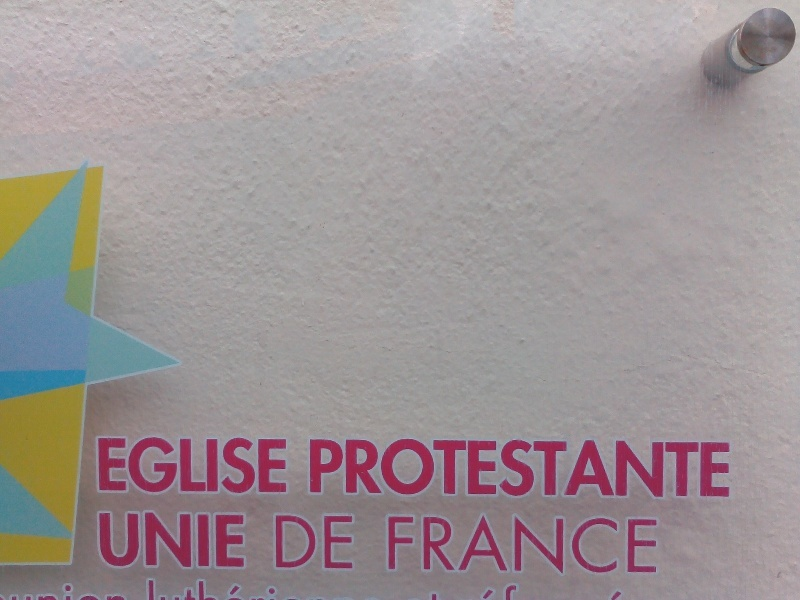text: (321, 436, 336, 499), (337, 436, 352, 499), (353, 436, 368, 499), (369, 436, 384, 499), (385, 436, 400, 499), (401, 436, 416, 499), (417, 436, 432, 499), (433, 436, 448, 499), (449, 436, 464, 499), (465, 436, 480, 499), (481, 436, 496, 499), (497, 436, 512, 499), (513, 436, 528, 499), (529, 436, 544, 499), (545, 436, 560, 499), (561, 436, 576, 499), (577, 436, 592, 499), (593, 436, 608, 499), (609, 436, 624, 499), (625, 436, 640, 499), (641, 436, 656, 499), (657, 436, 672, 499), (673, 436, 688, 499), (689, 436, 704, 499), (705, 436, 720, 499), (385, 513, 400, 574), (401, 513, 416, 574), (417, 513, 432, 574), (433, 513, 448, 574), (449, 513, 464, 574), (465, 513, 480, 574), (481, 513, 496, 574), (497, 513, 512, 574), (513, 513, 528, 574), (529, 513, 544, 574), (545, 513, 560, 574), (561, 513, 576, 574), (577, 513, 592, 574), (593, 513, 608, 574), (609, 513, 624, 574), (625, 513, 640, 574), (641, 513, 656, 574), (97, 509, 112, 569), (113, 509, 128, 569), (129, 509, 144, 569), (145, 509, 160, 569), (161, 509, 176, 569), (177, 509, 192, 569), (193, 509, 208, 569), (209, 509, 224, 569), (225, 509, 240, 569), (97, 436, 112, 495), (113, 436, 128, 495), (129, 436, 144, 495), (145, 436, 160, 495), (161, 436, 176, 495), (177, 436, 192, 495), (193, 436, 208, 495), (209, 436, 224, 495), (225, 436, 240, 495), (241, 436, 256, 495), (257, 436, 272, 495), (273, 436, 288, 495), (273, 512, 288, 571), (289, 512, 304, 571), (305, 512, 320, 571), (321, 512, 336, 571), (337, 512, 352, 571), (308, 436, 320, 499), (721, 436, 732, 499), (241, 509, 248, 569), (17, 582, 32, 600), (33, 582, 48, 600), (49, 582, 64, 600), (65, 582, 80, 600), (81, 582, 96, 600), (97, 582, 112, 600), (113, 582, 128, 600), (129, 582, 144, 600), (145, 582, 160, 600), (161, 582, 176, 600), (177, 582, 192, 600), (193, 582, 208, 600), (209, 582, 224, 600), (225, 582, 240, 600), (241, 582, 256, 600), (257, 582, 272, 600), (273, 582, 288, 600), (289, 582, 304, 600), (305, 582, 320, 600), (321, 582, 336, 600), (337, 582, 352, 600), (353, 582, 368, 600), (369, 582, 384, 600), (385, 582, 400, 600), (401, 582, 416, 600), (417, 582, 432, 600), (433, 582, 448, 600), (449, 582, 464, 600), (465, 582, 480, 600), (481, 582, 496, 600), (497, 582, 512, 600), (513, 582, 528, 600), (529, 582, 544, 600), (545, 582, 560, 600), (561, 582, 576, 600), (577, 582, 592, 600), (593, 582, 608, 600), (609, 582, 624, 600), (657, 513, 661, 574), (4, 582, 16, 600), (353, 512, 356, 571), (289, 436, 291, 495), (95, 509, 96, 569), (625, 582, 628, 600)
